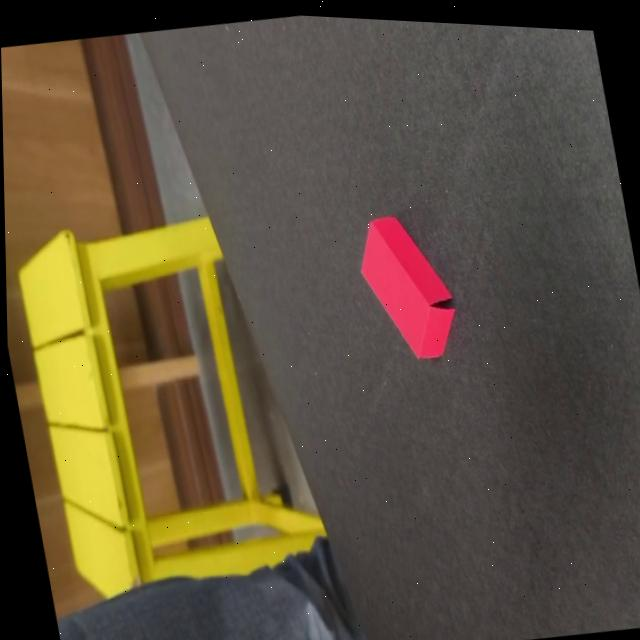red block: (350, 206, 464, 370)
